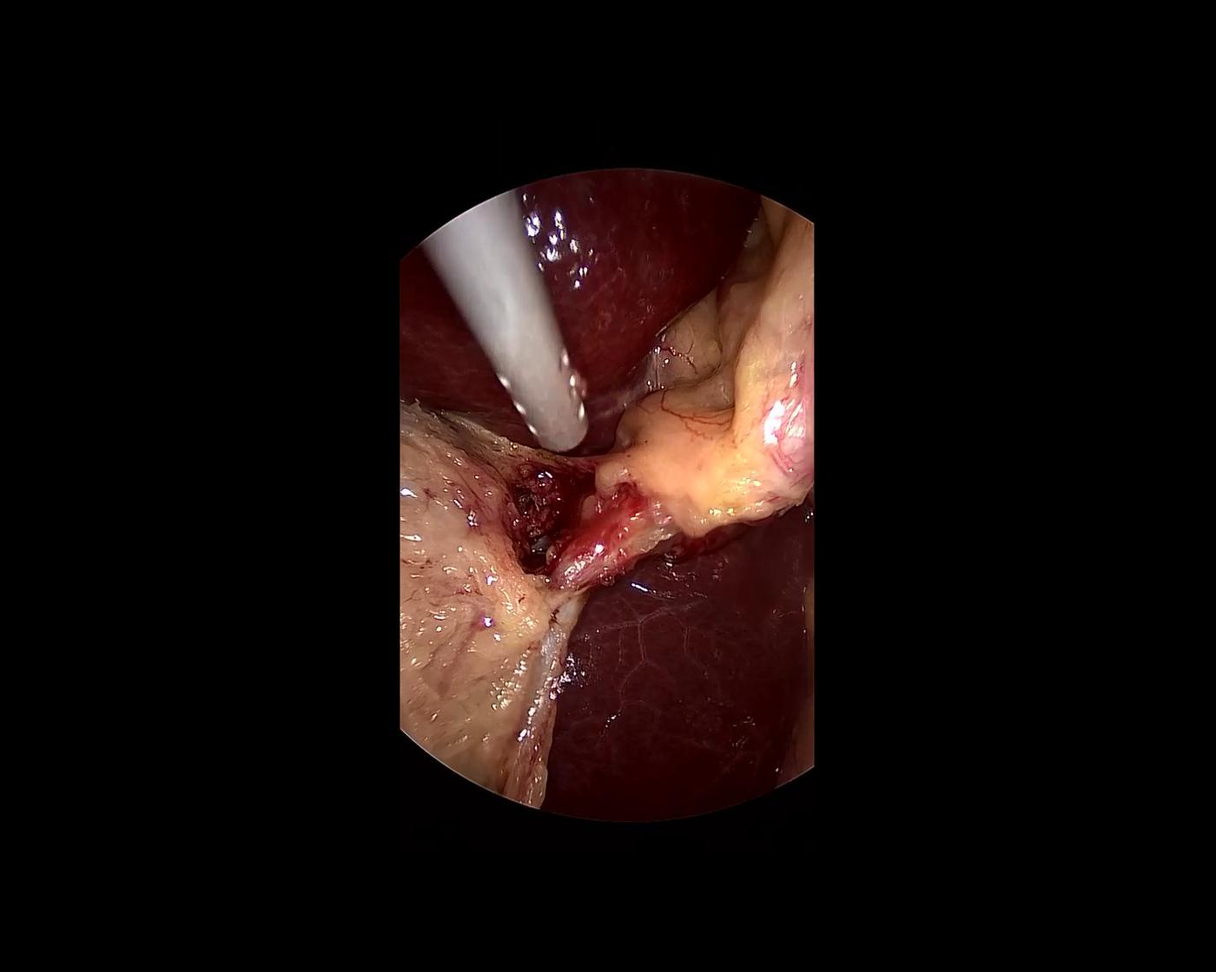Gallbladder: (396, 396, 573, 805)
Liver: (355, 78, 757, 492), (542, 492, 817, 830)
Suction: (420, 185, 639, 462)
